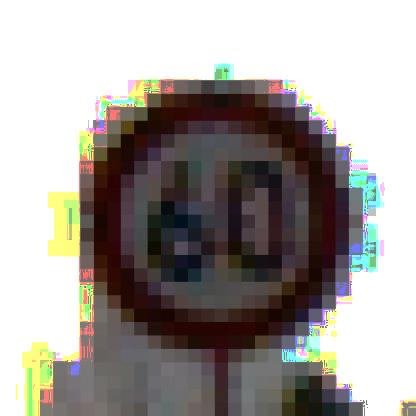Speed Limit -60-: (77, 77, 362, 364)
